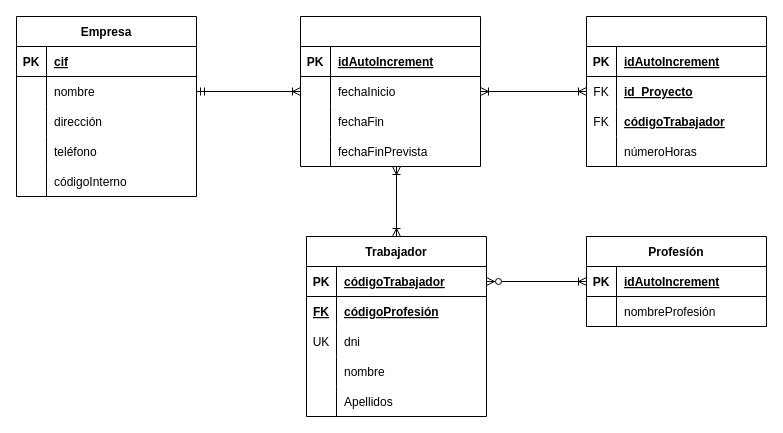
Some shapes in this 783 by 433 pixel diagram are drawn without their labels. Here are the shapes that lost their labels. From the top down, the box of each, then its label:
(300, 16, 480, 166): Proyecto
(586, 16, 766, 166): HorasTrabajadas
